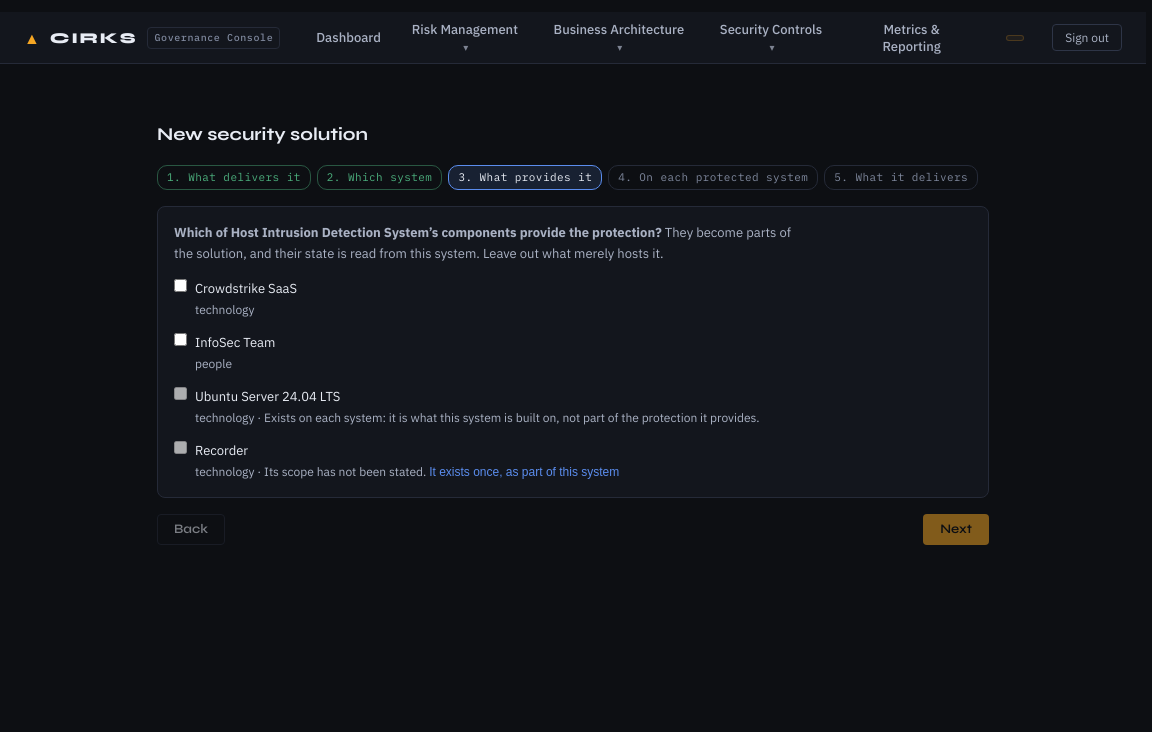
Test: the guided flow › "nothing on the protected system" is an answer
Click the checkbox labelled "Crowdstrike SaaS": (180, 286) [174,279,187,292]
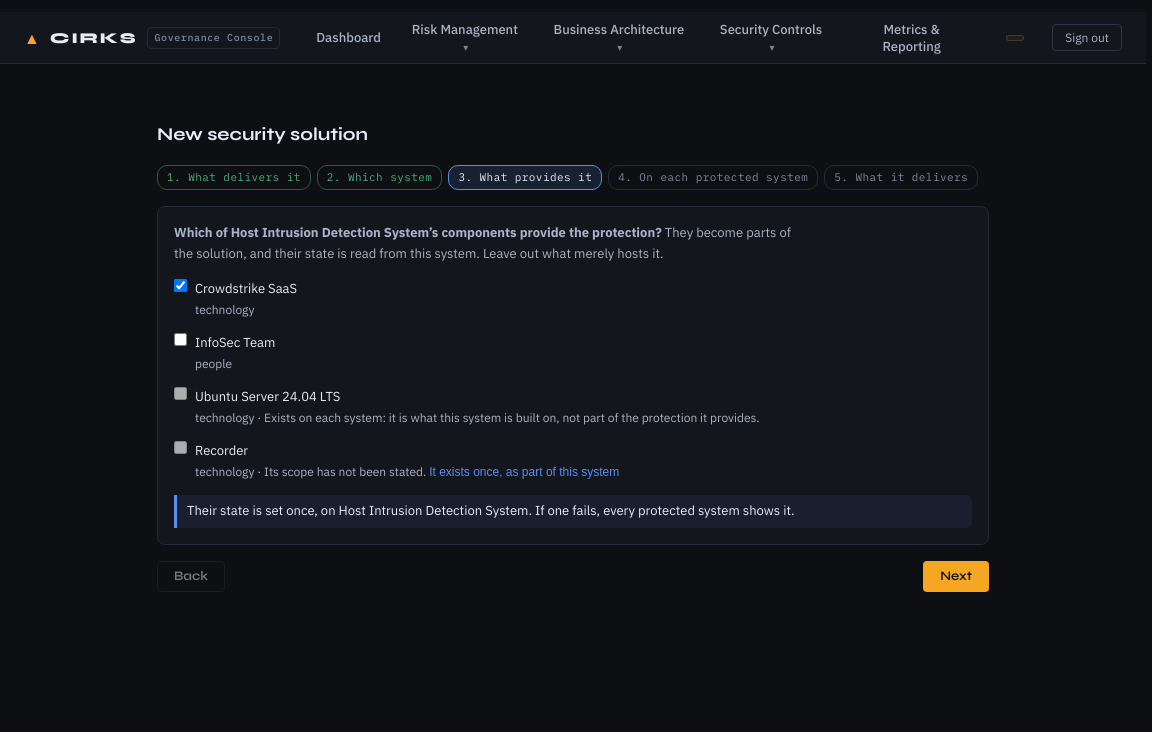
Click the button "Next": (956, 576) [923,561,989,592]
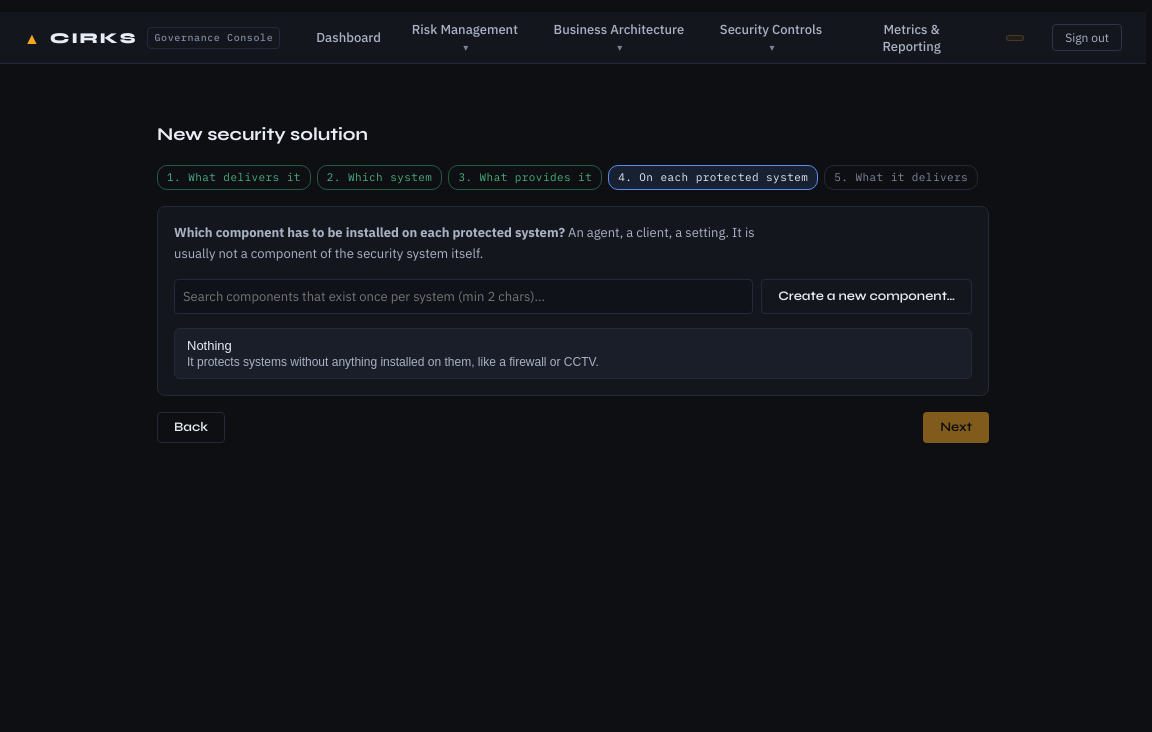
Check: the button "Next" is disabled, box [923,412,989,443]
Click the button "Nothing": (573, 354) [174,328,972,379]
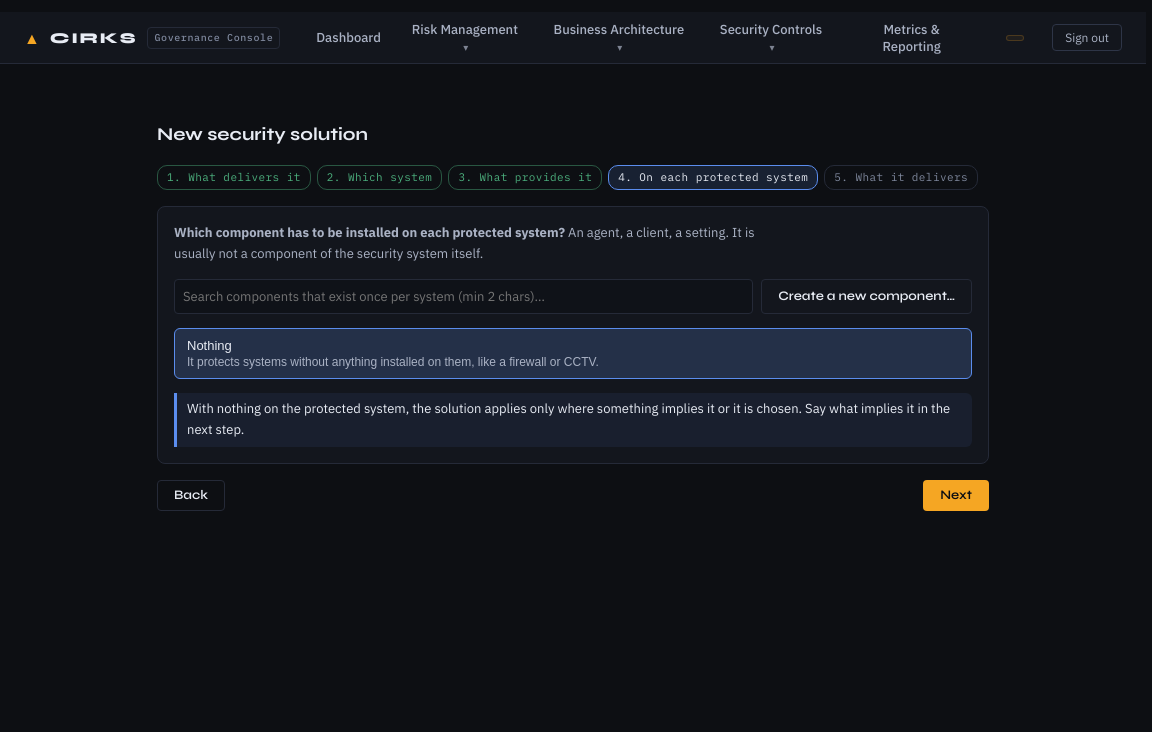
Check: the text "applies only where something implies it" is shown, box [187,400,950,438]
Check: the button "Next" is enabled, box [923,480,989,511]
